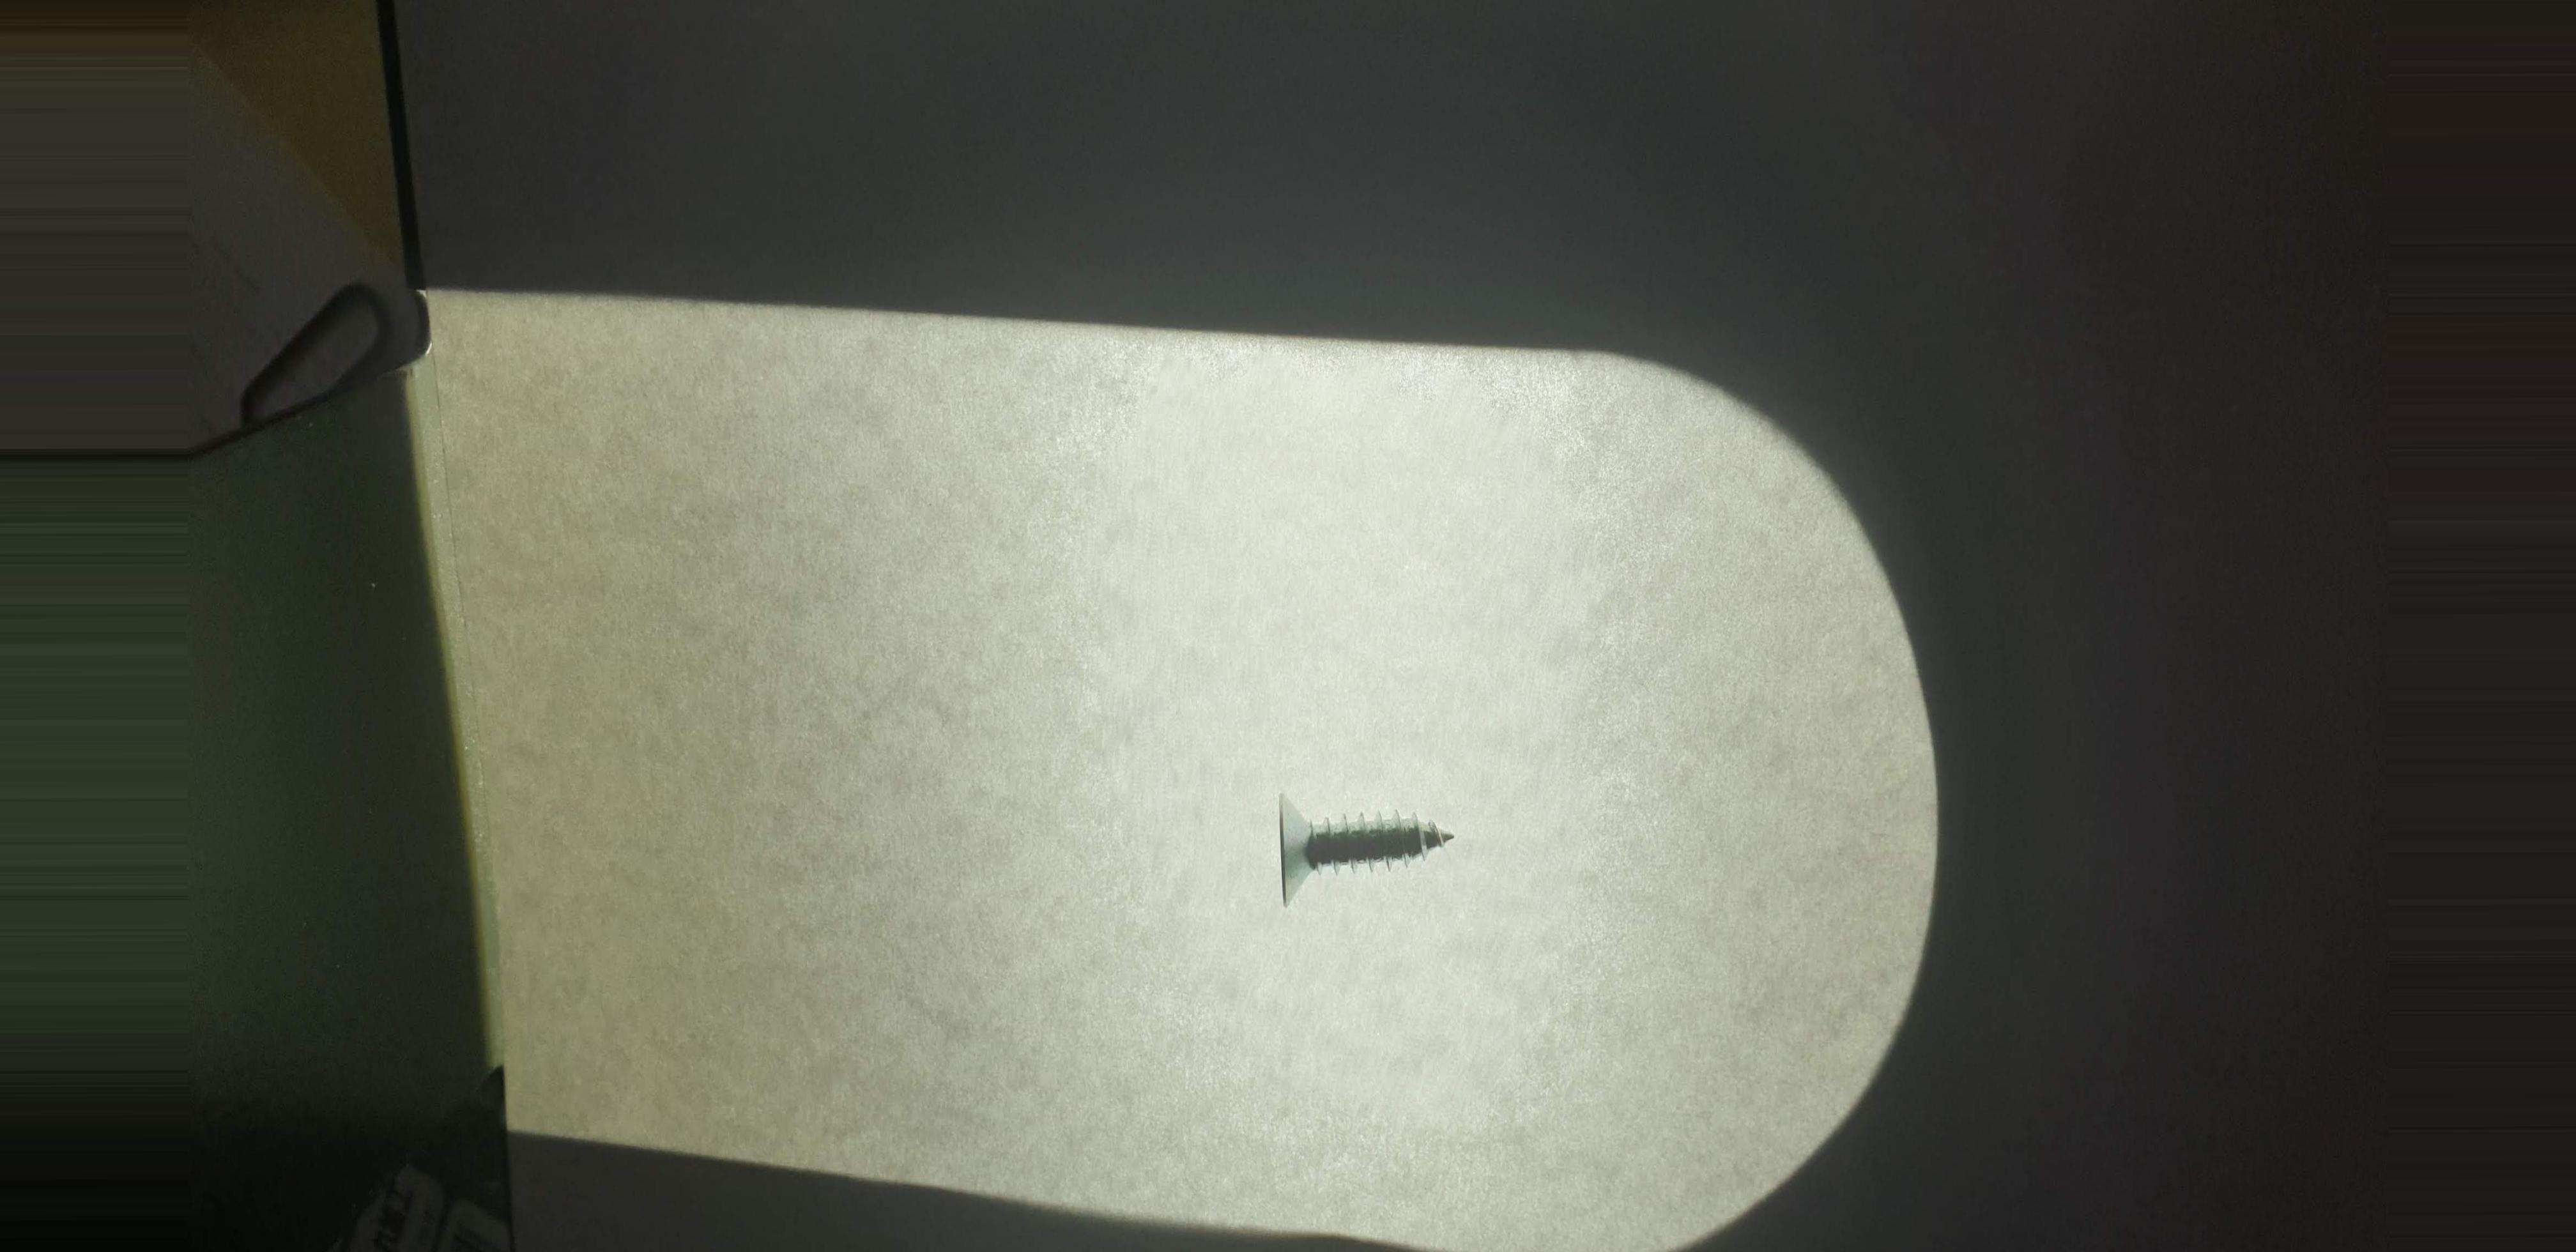S003: (1227, 767, 1518, 940)
